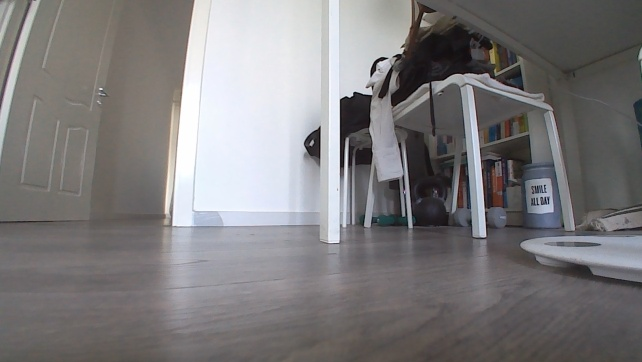door: (0, 0, 130, 226)
weight_scale: (513, 232, 641, 282)
wire: (567, 92, 641, 128)
